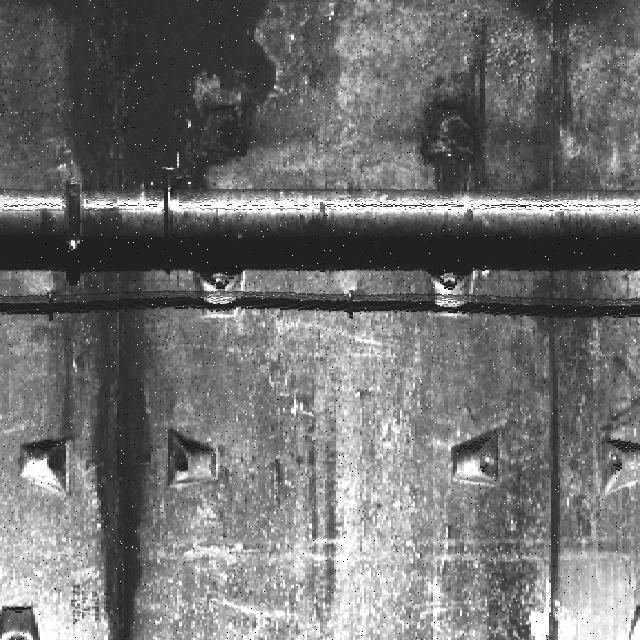leakage: (46, 1, 288, 199), (46, 273, 176, 640)
